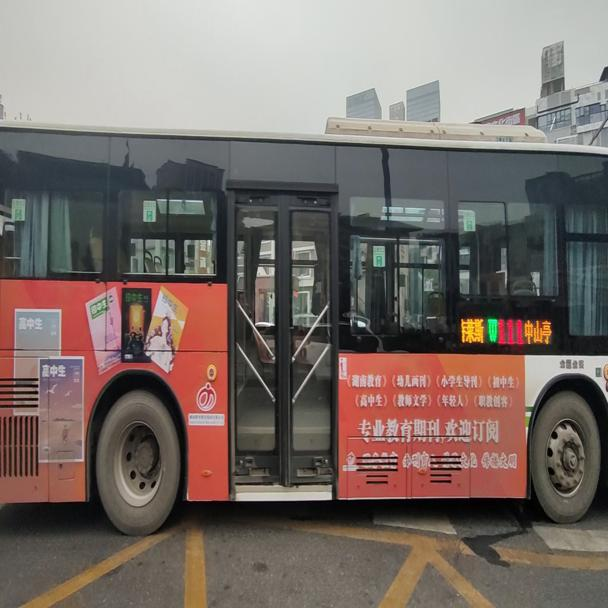bus: (0, 112, 605, 540)
screen: (496, 316, 523, 346)
